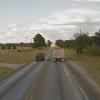Tree: (30, 28, 52, 48)
